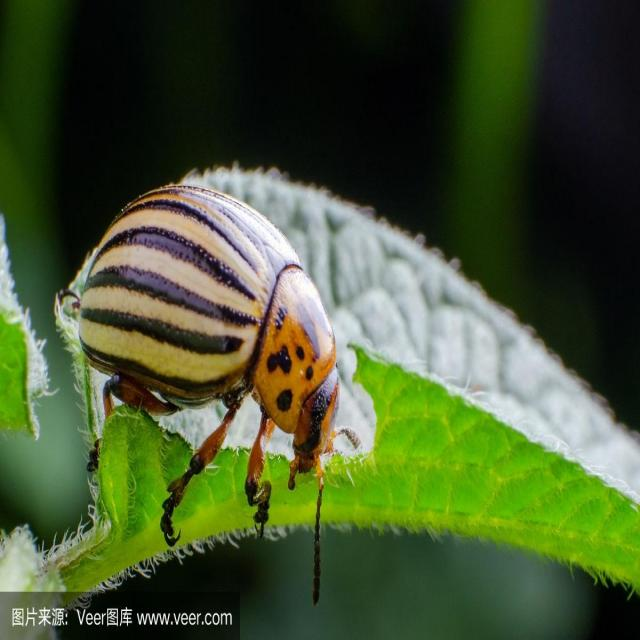ShuCaiHuaBanChong-Grown-: (69, 179, 364, 514)
